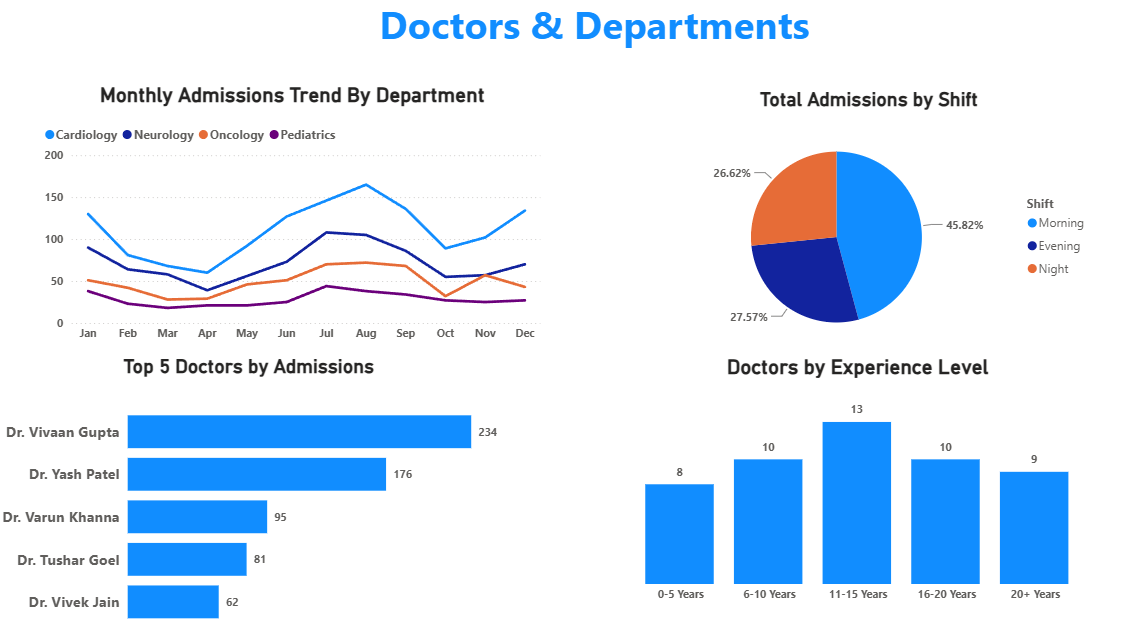

This screenshot's page, from the dashboard's own definition file:
{"tool":"powerbi","page":{"name":"Doctors & Departments","canvas":[1280,720],"ordinal":2},"visuals":[{"type":"clusteredBarChart","title":"Top 5 Doctors by Admissions","fields":{"Category":["hospital_bed_management doctors.Doctor_Name"],"Y":["Measures1.Total Admissions"]},"box":[0,401.7,561.7,318.3],"z":2},{"type":"pieChart","fields":{"Category":["hospital_bed_management doctors.Shift"],"Y":["Measures1.Total Admissions"]},"box":[716.7,105,506.7,296.7],"z":5},{"type":"lineChart","title":"Monthly Admissions Trend By Department","fields":{"Category":["Calendar.Month"],"Y":["Measures1.Total Admissions"],"Series":["hospital_bed_management departments.Department_Name"]},"box":[48.3,100,561.7,296.7],"z":8},{"type":"columnChart","title":"Doctors by Experience Level","fields":{"Category":["hospital_bed_management doctors.Experience Group"],"Y":["CountNonNull(hospital_bed_management doctors.Doctor_ID)"]},"box":[676.7,401.7,561.7,285],"z":9},{"type":"textbox","box":[75,0,1180,100],"z":10}]}

Visuals, with their boxes in screenshot pixels (x1, y1, x2, y2), scaled from the page's 1280x720 canvas onto the 1144x627 screenshot:
"Top 5 Doctors by Admissions" clusteredBarChart: bbox(0, 350, 502, 626)
pieChart - hospital_bed_management doctors.Shift x Measures1.Total Admissions: bbox(641, 91, 1093, 350)
"Monthly Admissions Trend By Department" lineChart: bbox(43, 87, 545, 345)
"Doctors by Experience Level" columnChart: bbox(605, 350, 1107, 598)
textbox: bbox(67, 0, 1122, 87)
